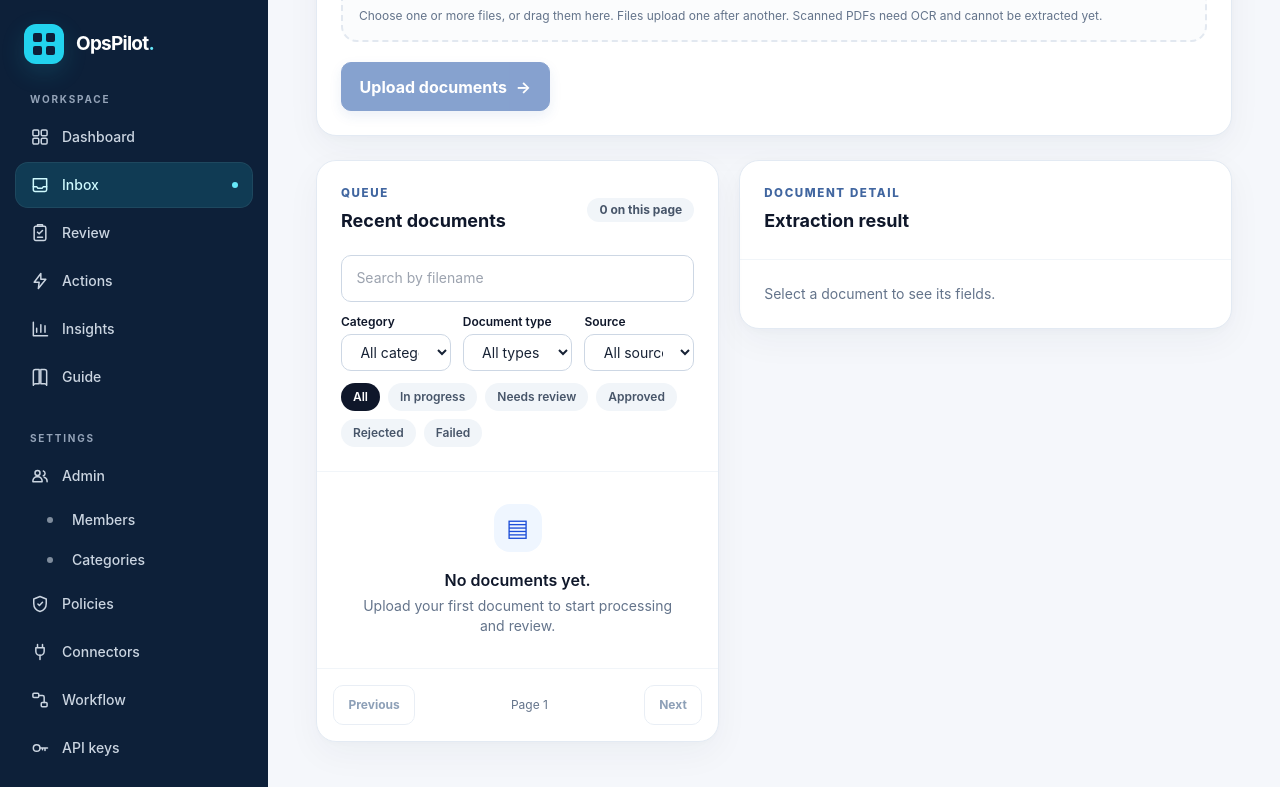
Test: inbox empty states › explains an empty filtered list and offers to clear the filters
(page scrolled)
Expected: the text "No documents yet." is shown, [444,570,591,590]
Click the button "Needs review" at (537, 396), box [485,382,588,410]
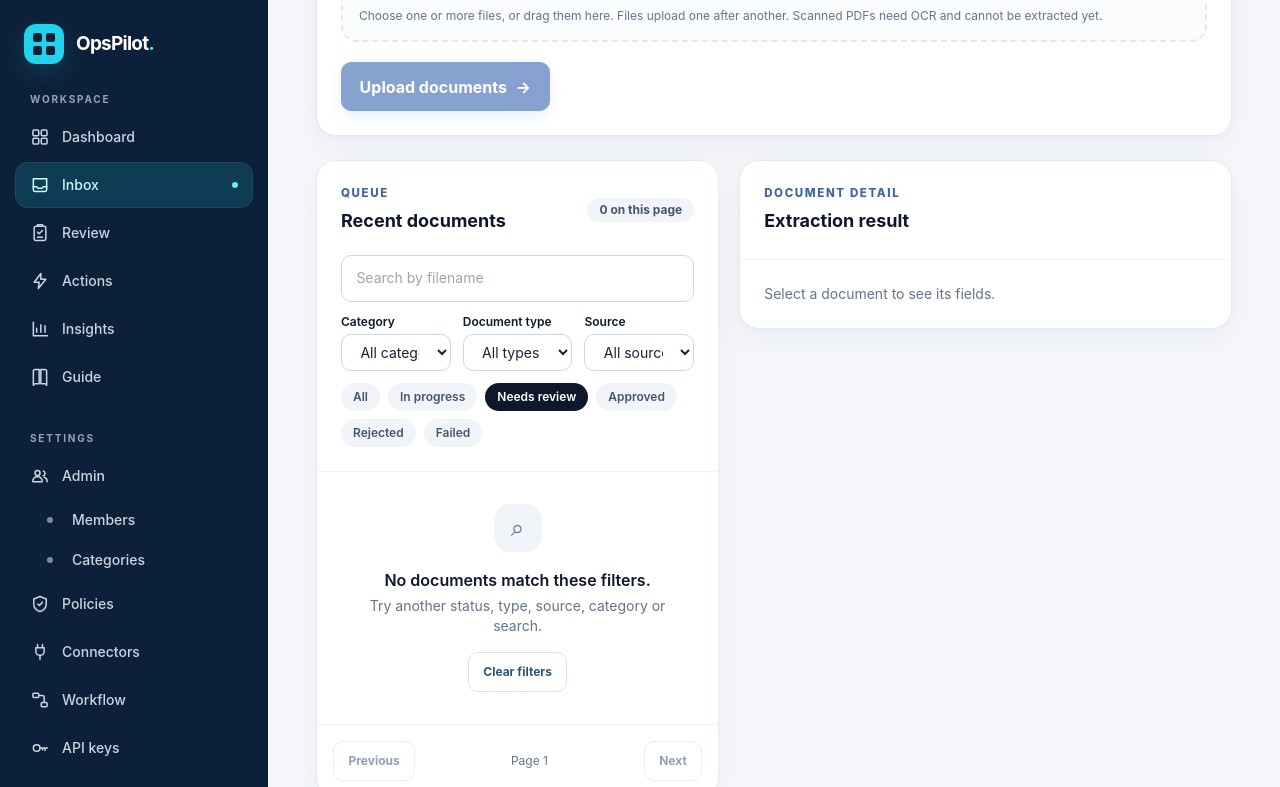
Expected: the text "No documents match these filters." is shown, [384,570,651,590]
Expected: the text "No documents yet." is gone
Click the button "Clear filters" at (518, 672), box [468,652,567,692]
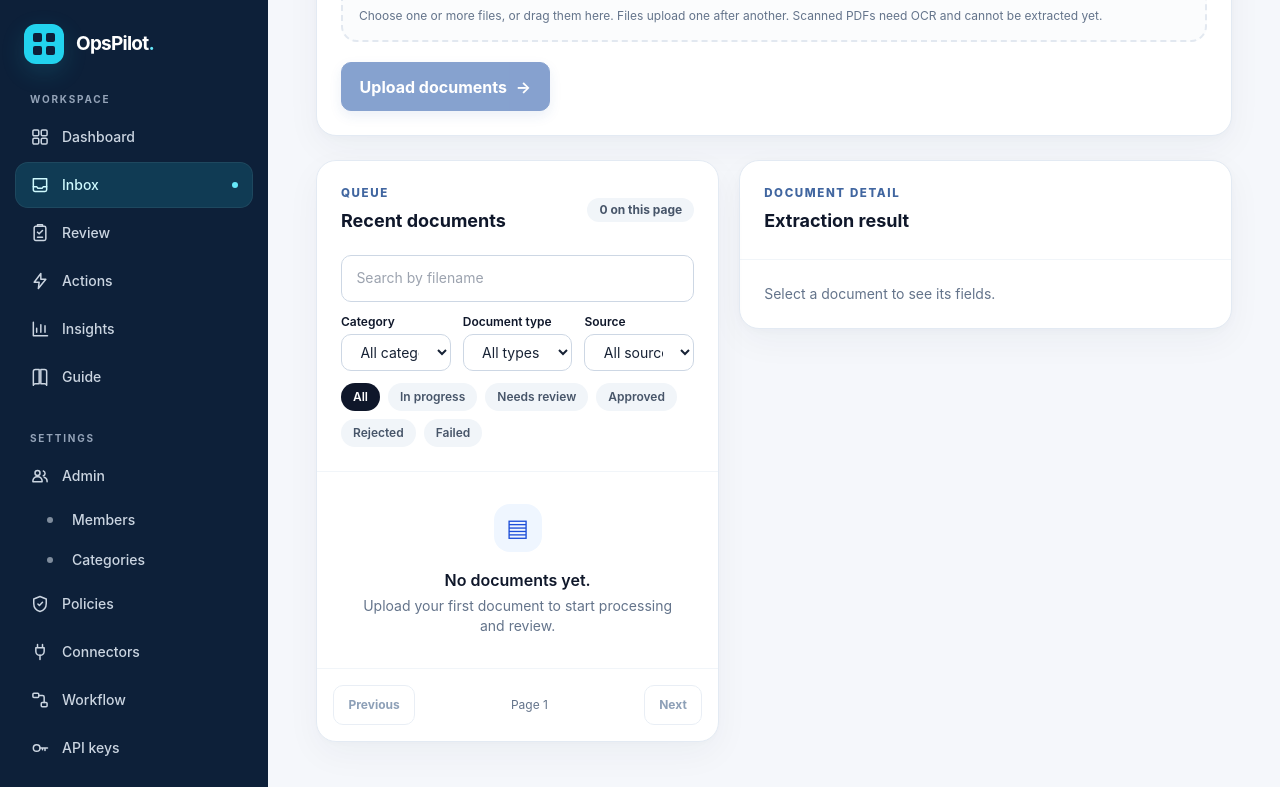
Expected: the text "No documents yet." is shown, [444,570,591,590]
